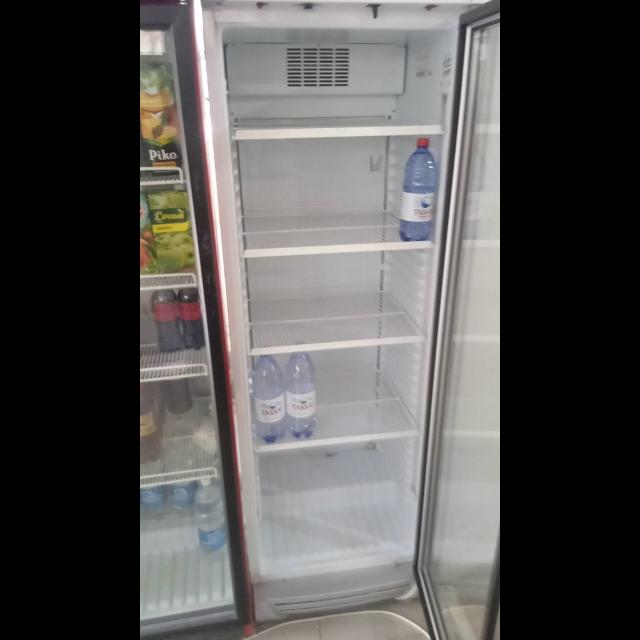Cooling-Display: (199, 1, 499, 622)
